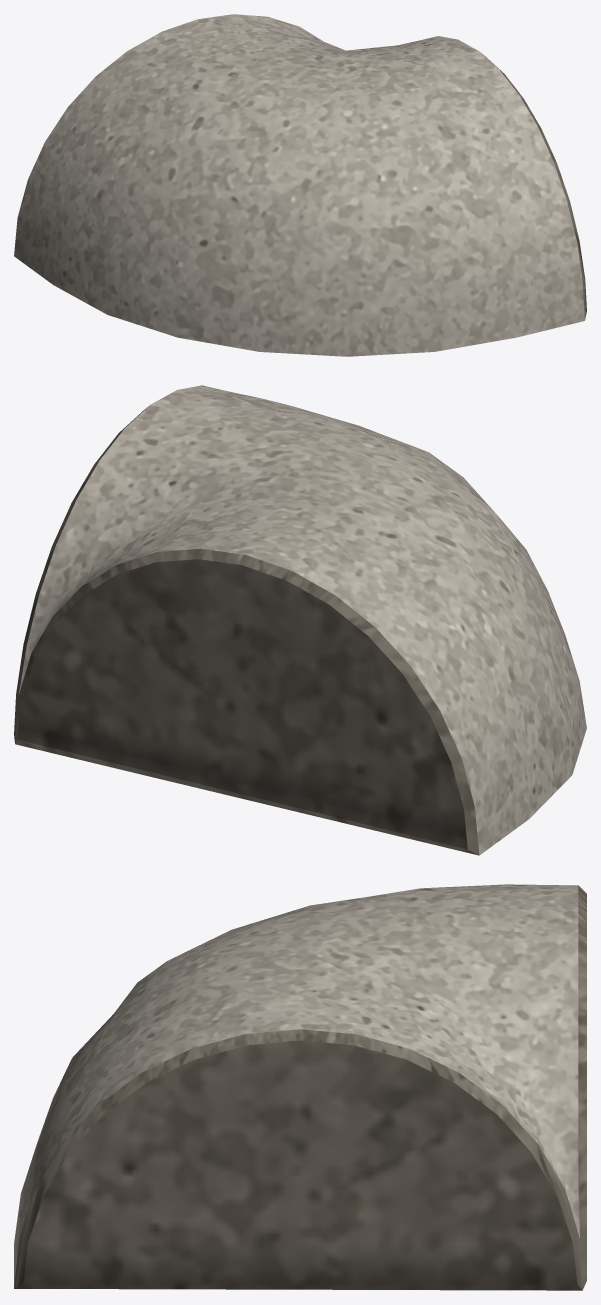
Rendered from GB_039_040_041_042_wall_top_rounded_cornerround.glb.
3 renders of one model, top to bottom at view 1: azimuth 30°, elevation 25°; view 2: azimuth 150°, elevation 25°; view 3: azimuth 270°, elevation 25°, orthographic. The views are drawn at different scales.
Visible parts, largest first — view 1: GB_039_040_041_042_wall_top_rounded_cornerround; view 2: GB_039_040_041_042_wall_top_rounded_cornerround; view 3: GB_039_040_041_042_wall_top_rounded_cornerround.
Part boxes in pixels (<box>): GB_039_040_041_042_wall_top_rounded_cornerround: <box>14,14,586,356</box>; GB_039_040_041_042_wall_top_rounded_cornerround: <box>14,385,586,855</box>; GB_039_040_041_042_wall_top_rounded_cornerround: <box>14,884,586,1290</box>.
Size of the model in its own units: 0.7498 by 0.3748 by 0.7498.
1 material, 1 textured.
